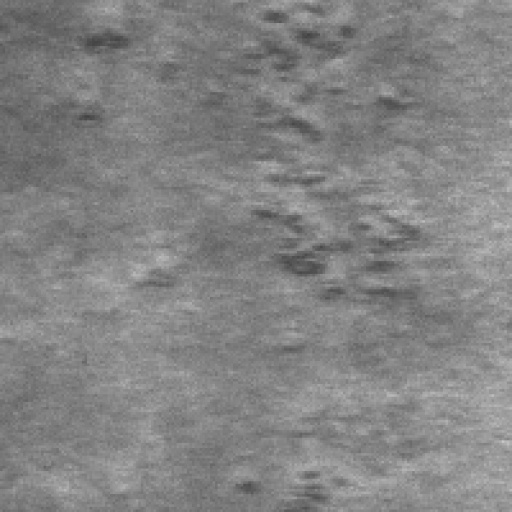rolled_in_scale: (232, 150, 447, 329), (203, 2, 438, 148), (51, 8, 179, 142), (215, 451, 366, 508)
